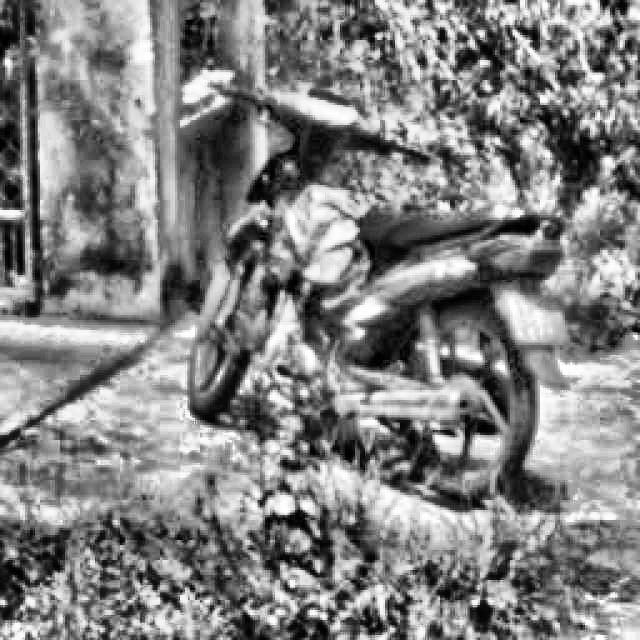motorcycle: (159, 74, 586, 524)
